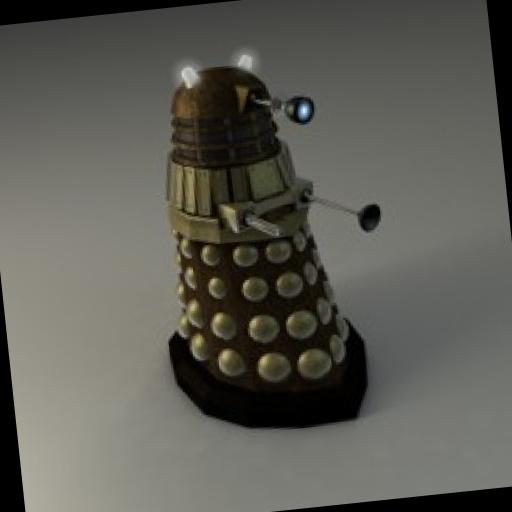dalek: (118, 28, 414, 441)
